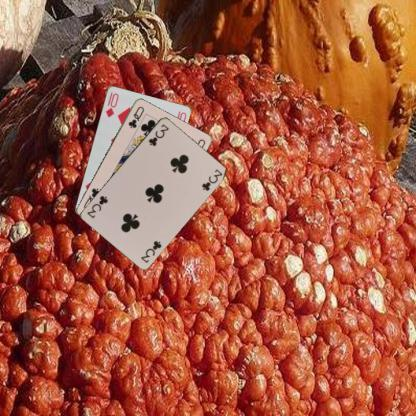10d: (102, 90, 119, 118)
3c: (138, 237, 163, 264), (145, 122, 170, 148)
Qc: (125, 104, 145, 130)
